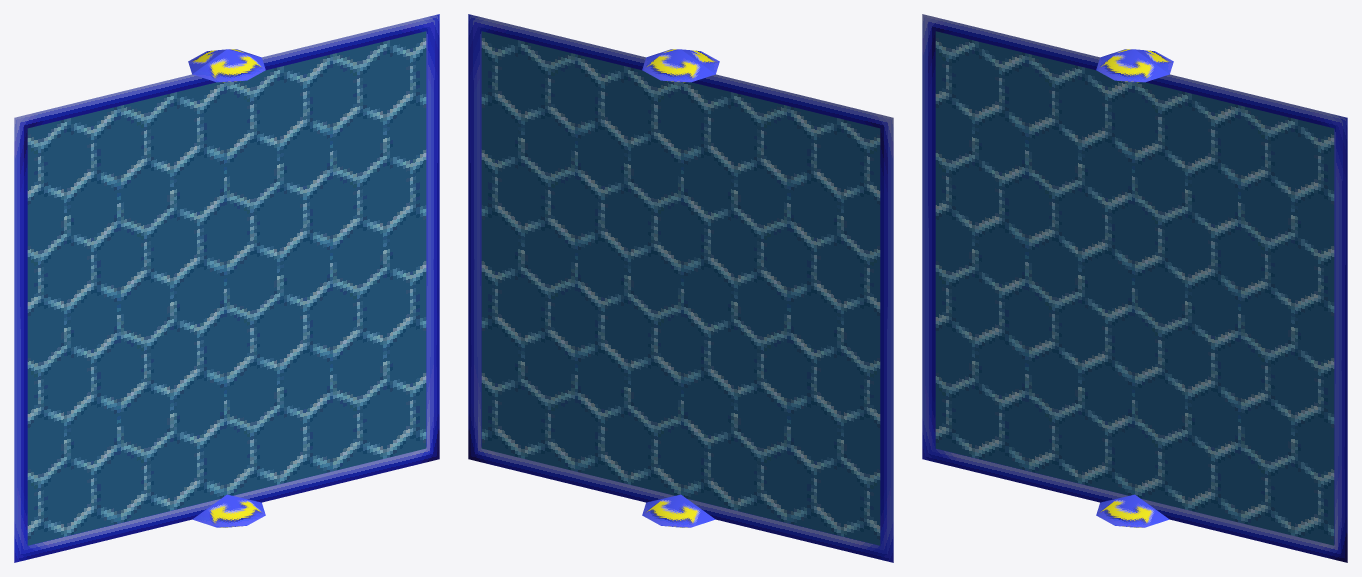
File: fence_revolve_inner.dae
3 views of the same model, side by side, from view 1: azimuth 30°, elevation 25°; view 2: azimuth 150°, elevation 25°; view 3: azimuth 330°, elevation 25° (orthographic).
Parts seen in each view (by area): view 1: n1b1, n0b0; view 2: n1b1, n0b0; view 3: n1b1, n0b0.
Boxes of the visible parts, x1=… form: n1b1: x1=27, y1=31, x2=426, y2=545; n0b0: x1=14, y1=14, x2=439, y2=562; n1b1: x1=481, y1=31, x2=880, y2=545; n0b0: x1=468, y1=14, x2=893, y2=562; n1b1: x1=935, y1=31, x2=1334, y2=545; n0b0: x1=922, y1=14, x2=1347, y2=562.
Bounding box in the file's own units: 400 × 430 × 65.55.
